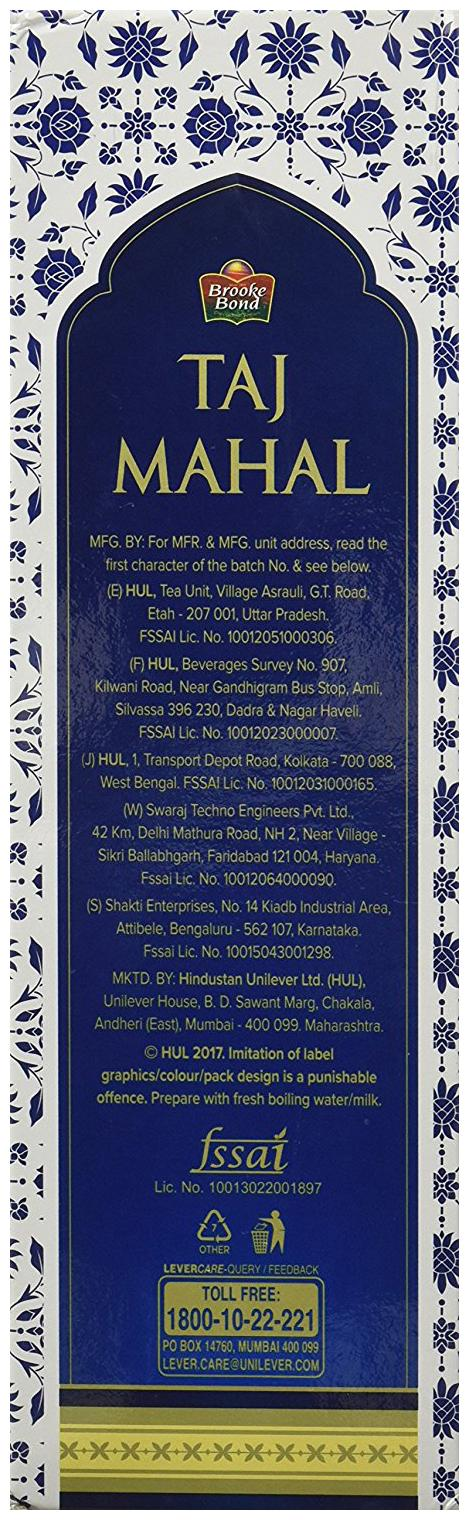fssai: (187, 1124, 291, 1175)
